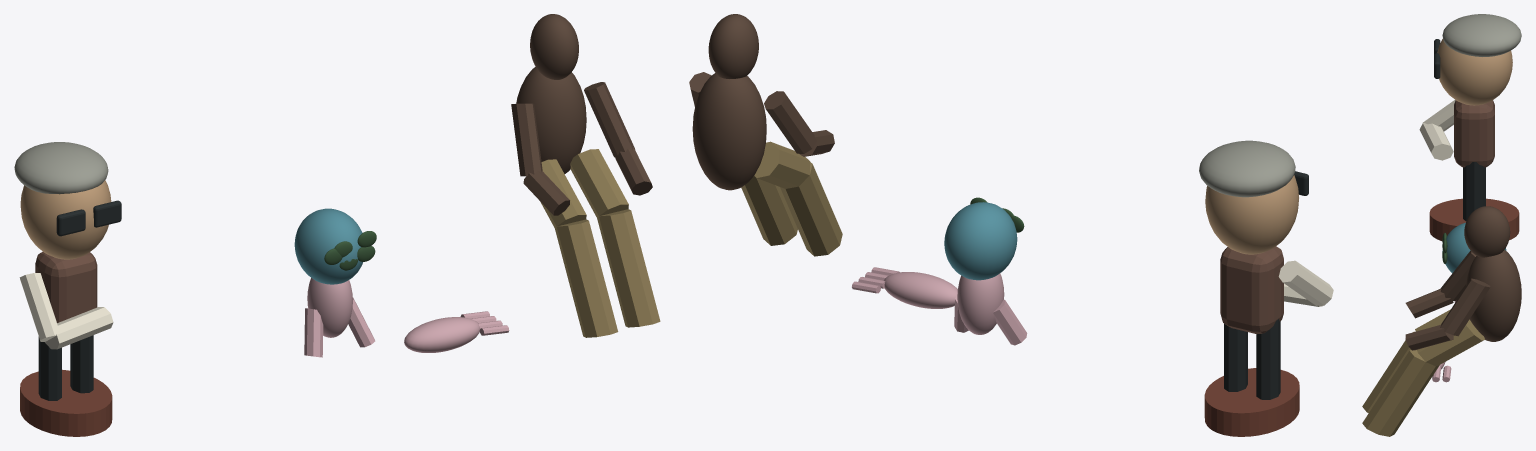
The model's file is shelf-figurines.glb.
3 renders of one model, left to right at view 1: azimuth 30°, elevation 25°; view 2: azimuth 150°, elevation 25°; view 3: azimuth 270°, elevation 25°, orthographic. The views are drawn at different scales.
Parts seen in each view (by area): view 1: shelf-figurines; view 2: shelf-figurines; view 3: shelf-figurines.
Part boxes in pixels (x1,y1,x2,y2): shelf-figurines: [14, 14, 660, 436]; shelf-figurines: [689, 14, 1333, 436]; shelf-figurines: [1362, 14, 1521, 436].
Bounding box in the file's own units: 0.6 × 0.2582 × 0.17.
